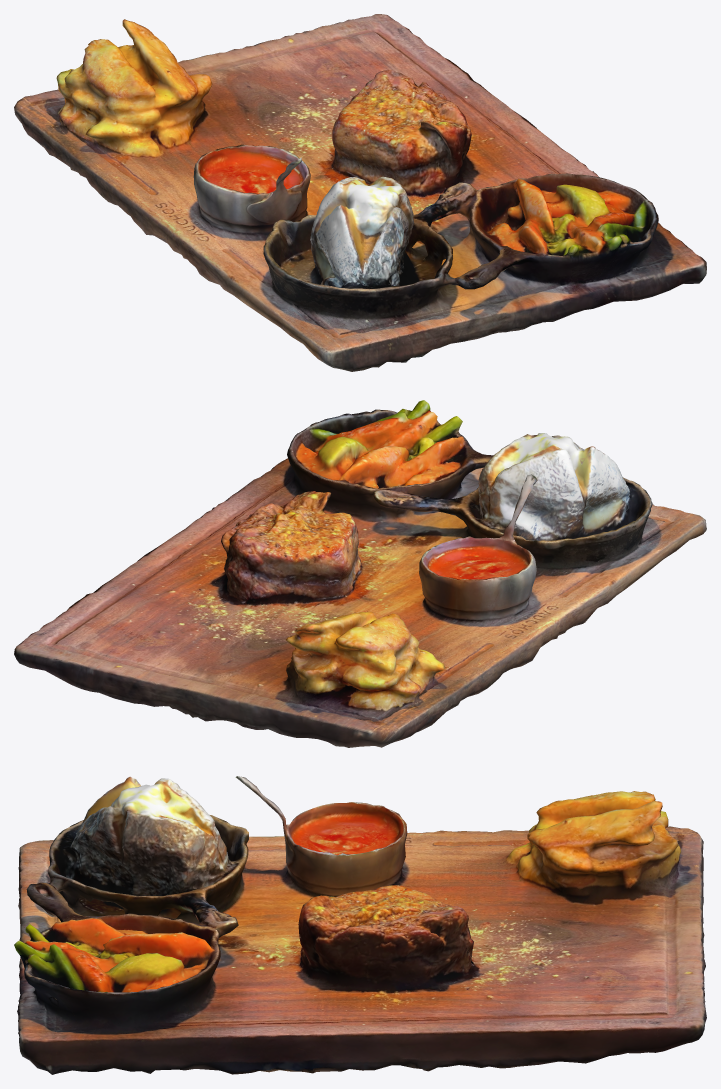
The picture shows the model from 3 angles, top to bottom: view 1: azimuth 30°, elevation 25°; view 2: azimuth 150°, elevation 25°; view 3: azimuth 270°, elevation 25°; orthographic projection. The views are drawn at different scales.
Parts seen in each view (by area): view 1: Mesh; view 2: Mesh; view 3: Mesh.
Boxes of the visible parts, x1,y1,x2,y2 form: Mesh: (14, 14, 706, 371); Mesh: (14, 400, 706, 747); Mesh: (14, 776, 706, 1074).
Size of the model in its own units: 0.2948 by 0.0944 by 0.4247.
1 material, 1 textured.
